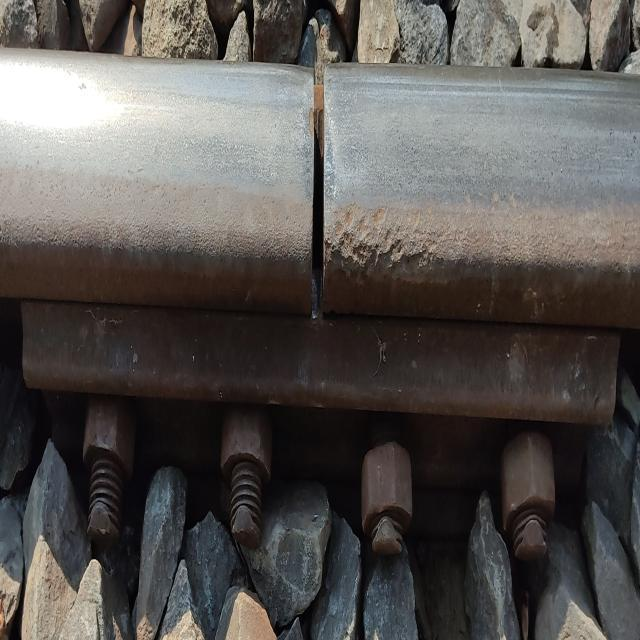Good Joint: (21, 300, 620, 559)
